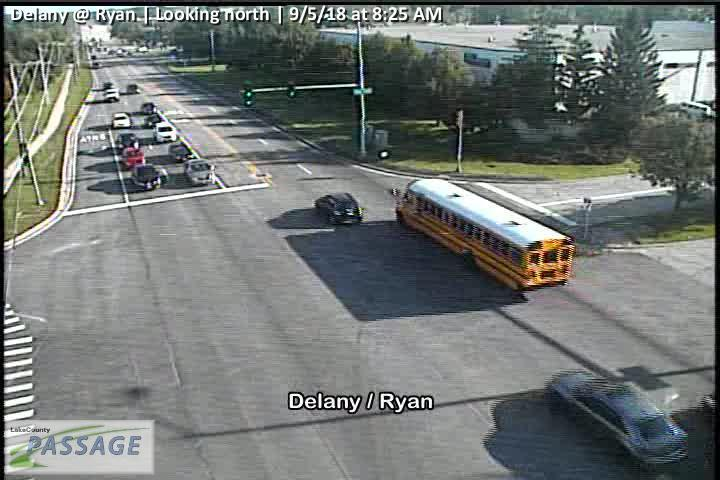Bus: (391, 176, 575, 292)
SUV: (315, 192, 363, 225), (184, 158, 217, 185), (154, 122, 176, 142), (112, 112, 131, 129)
Sedan: (547, 368, 688, 468), (133, 164, 161, 191), (123, 146, 144, 168), (115, 134, 139, 150), (169, 144, 191, 161), (144, 113, 161, 127), (104, 88, 120, 101), (142, 102, 157, 113), (127, 84, 139, 93), (103, 81, 113, 88)
